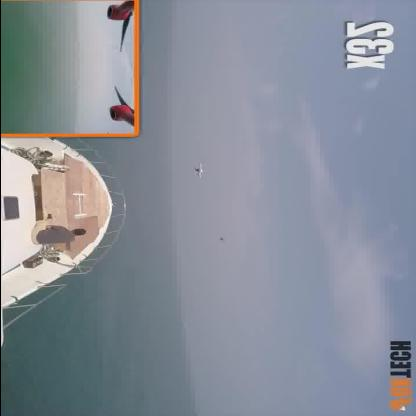drone: (189, 157, 211, 179)
